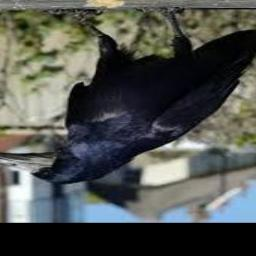Crow: (0, 7, 256, 187)
